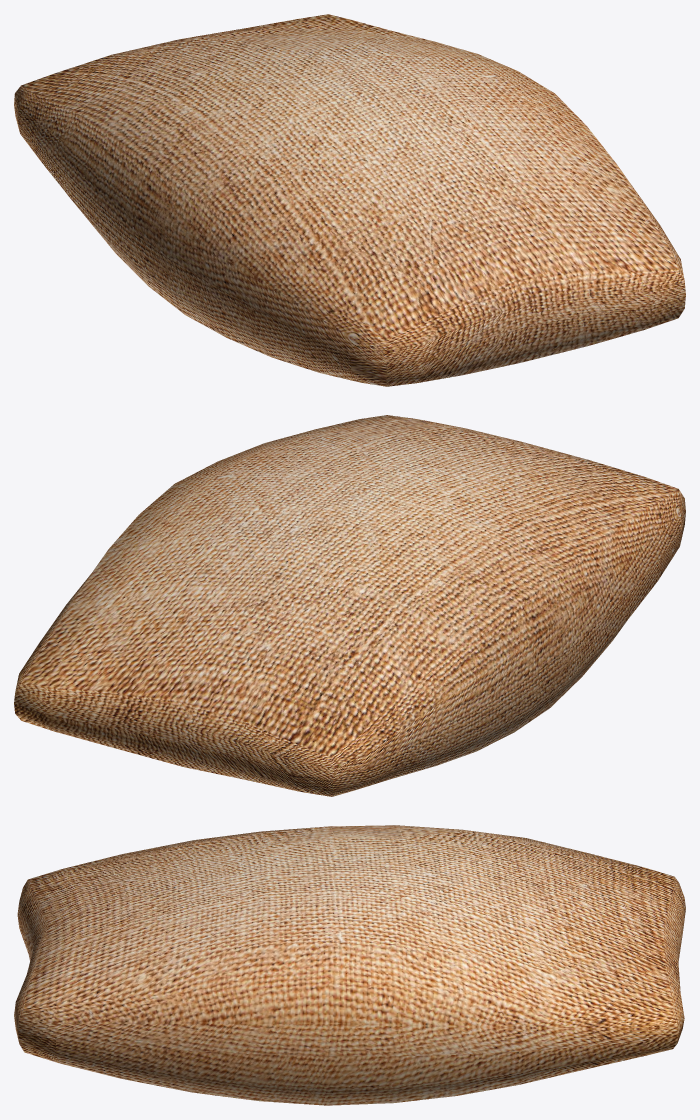
The model's file is sack.glb.
The picture shows the model from 3 angles, top to bottom: view 1: azimuth 30°, elevation 25°; view 2: azimuth 150°, elevation 25°; view 3: azimuth 270°, elevation 25°; orthographic projection. The views are drawn at different scales.
Parts seen in each view (by area): view 1: Plane; view 2: Plane; view 3: Plane.
Boxes of the visible parts, bbox=[...] form: Plane: bbox=[14, 14, 685, 386]; Plane: bbox=[14, 415, 685, 796]; Plane: bbox=[14, 825, 685, 1105].
Bounding box in the file's own units: 2.36 × 1.2 × 3.69.
Materials: 1 (1 with a texture image).
